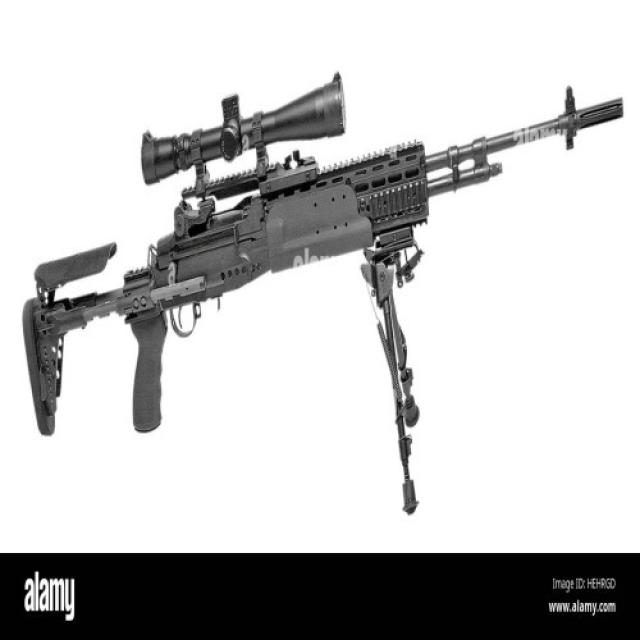Gun: (19, 76, 640, 503)
